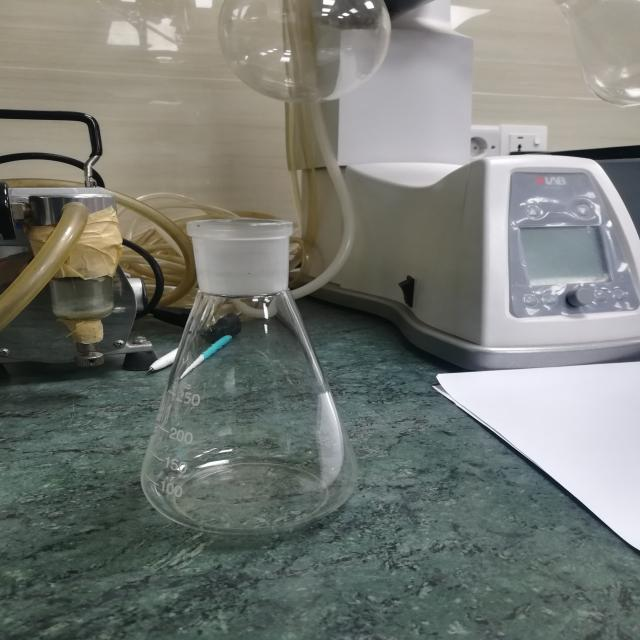Conical_Flask: (119, 189, 378, 564)
